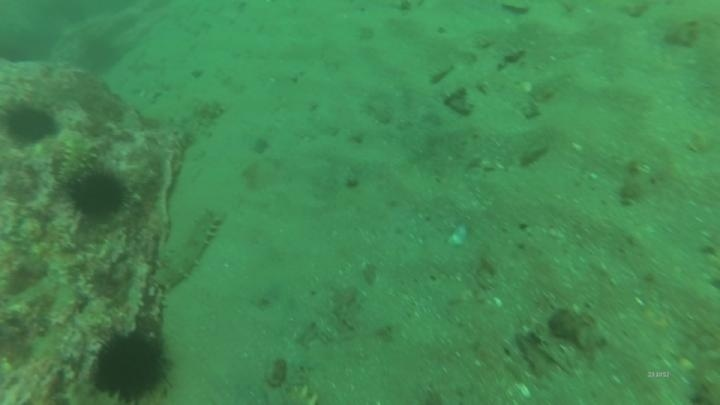echinus: (86, 325, 175, 404), (64, 164, 132, 226), (1, 98, 60, 148)
holothurian: (152, 204, 227, 292), (53, 131, 100, 190)
